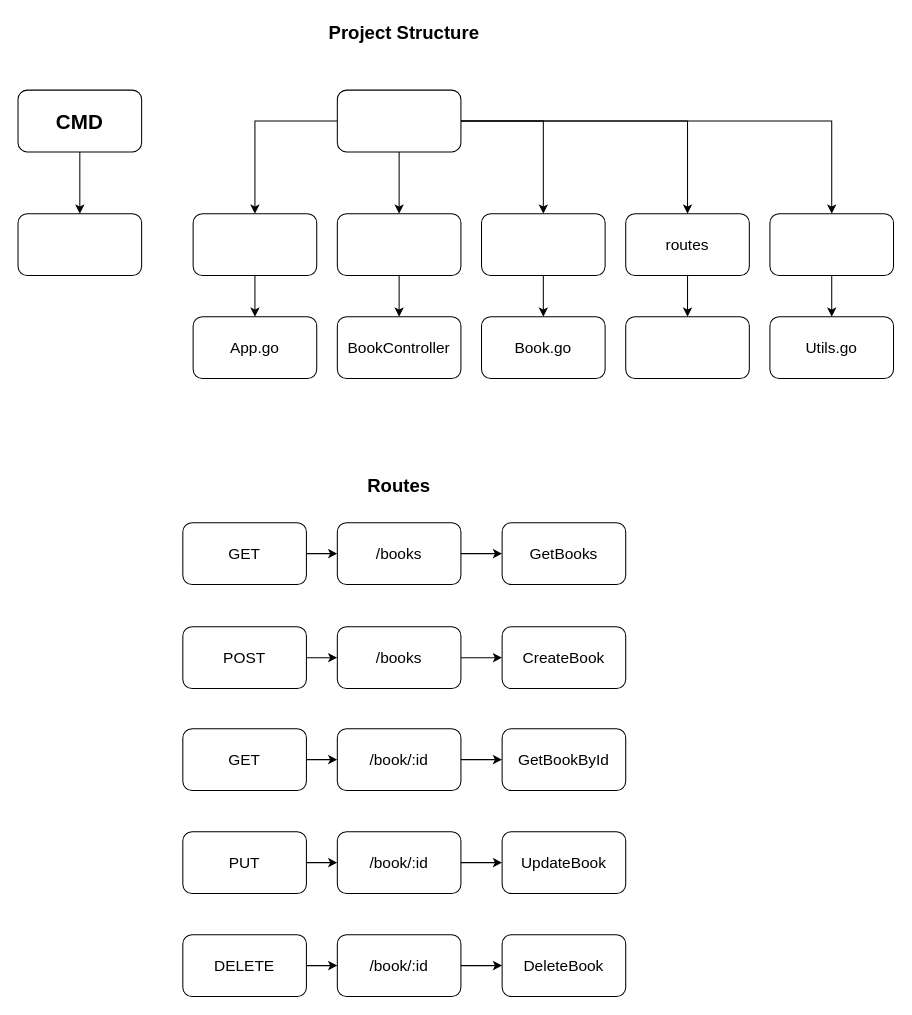
Image size: 912x1015. Some labels were removed from this diagram. The centre of each missing label's shape, as x and y in pixels:
"BookStore Routes" goes at [687,347].
"confog" goes at [254,244].
"controllers" goes at [398,244].
"main.go" goes at [79,244].
"models" goes at [542,244].
"PKG" goes at [398,120].
"utils" goes at [831,244].
